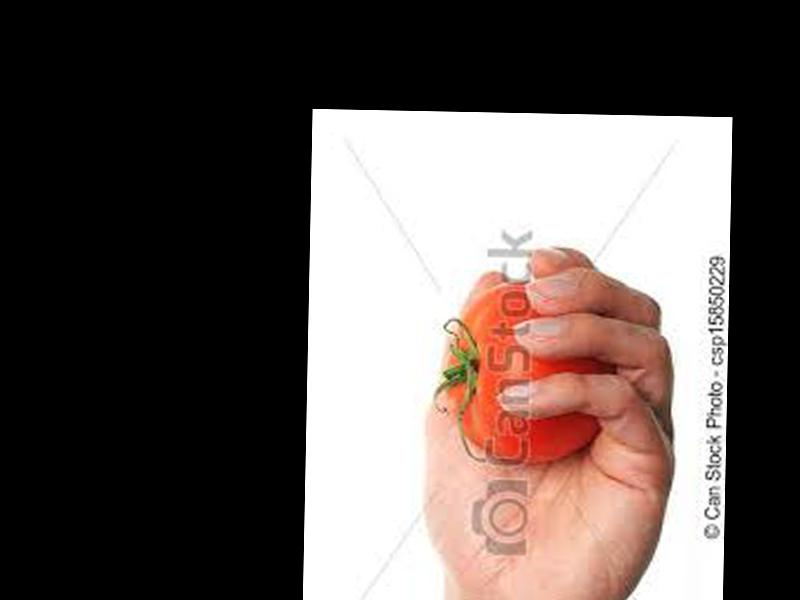Tomato: (446, 281, 611, 460)
